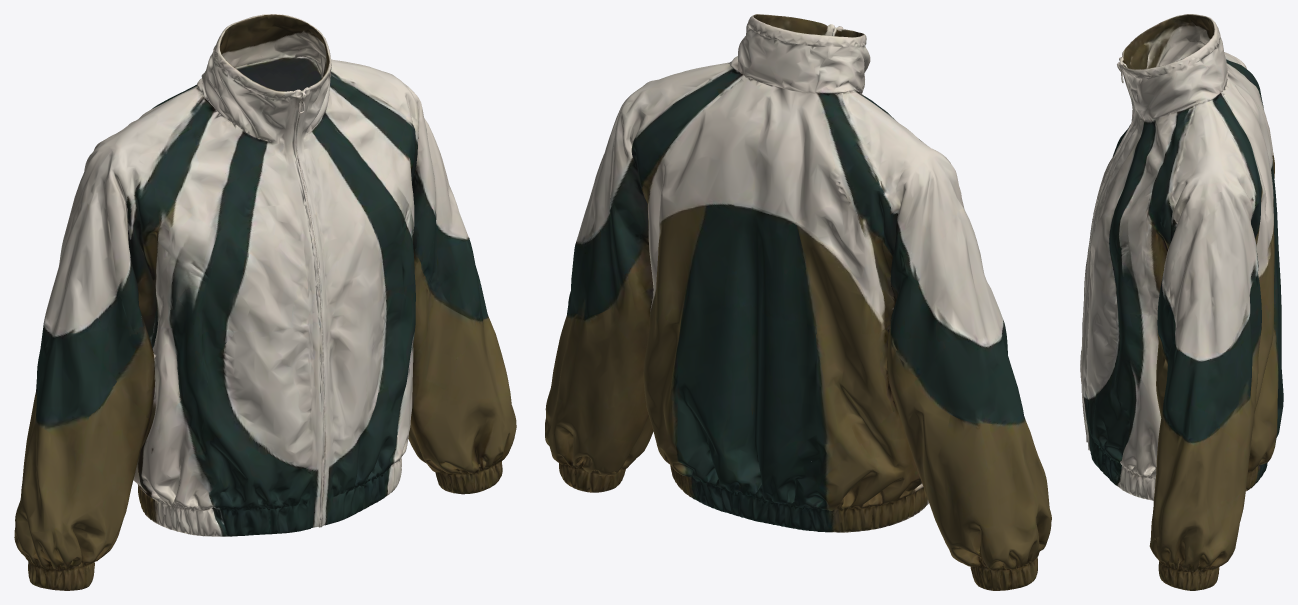
The model's file is suit-detour-top.glb.
The picture shows the model from 3 angles, left to right: view 1: azimuth 30°, elevation 25°; view 2: azimuth 150°, elevation 25°; view 3: azimuth 270°, elevation 25°; orthographic projection. The views are drawn at different scales.
Visible parts, largest first — view 1: tripo_node_dd9c2ae9-9d97-466d-b3cb-8f124a2da880; view 2: tripo_node_dd9c2ae9-9d97-466d-b3cb-8f124a2da880; view 3: tripo_node_dd9c2ae9-9d97-466d-b3cb-8f124a2da880.
Boxes of the visible parts, x1,y1,x2,y2 form: tripo_node_dd9c2ae9-9d97-466d-b3cb-8f124a2da880: [14, 14, 516, 590]; tripo_node_dd9c2ae9-9d97-466d-b3cb-8f124a2da880: [545, 14, 1051, 590]; tripo_node_dd9c2ae9-9d97-466d-b3cb-8f124a2da880: [1080, 14, 1283, 590].
Size of the model in its own units: 0.8344 by 0.8326 by 0.3301.
1 material, 1 textured.
